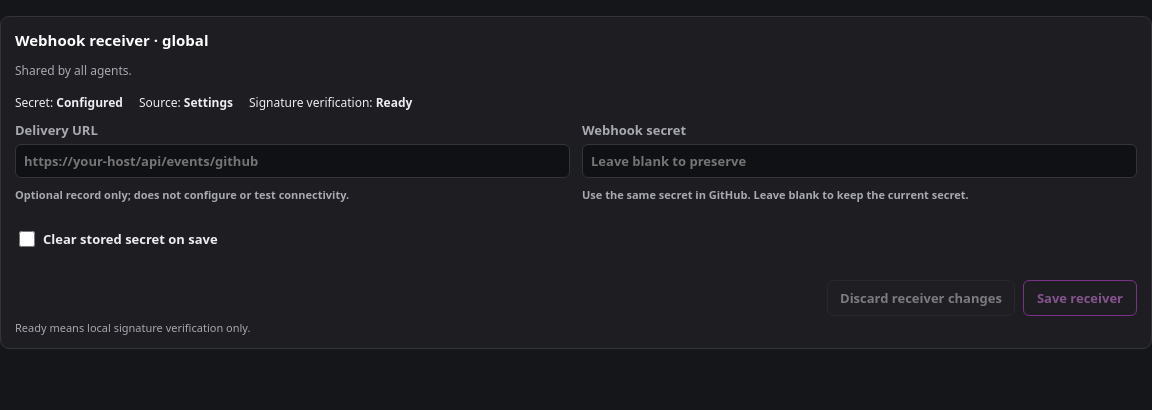
only clears on explicit checkbox plus save, never sends replacement and clear together
Expected: the text "Configured" is shown, top-left (56, 94), bottom-right (123, 111)
In the password field labelled "Webhook secret": (860, 161) top-left (582, 144), bottom-right (1137, 178), type "discard this"
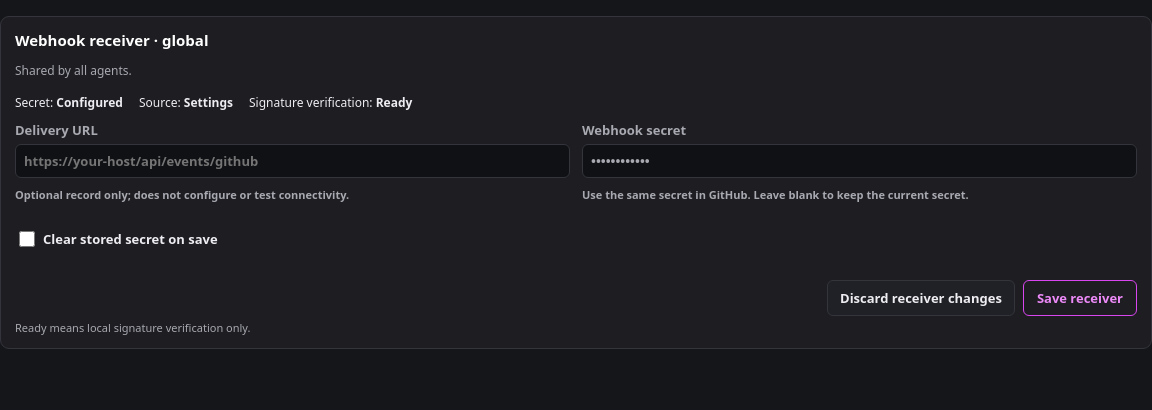
Click the checkbox labelled "Clear stored secret on save": (27, 239) top-left (19, 231), bottom-right (35, 247)
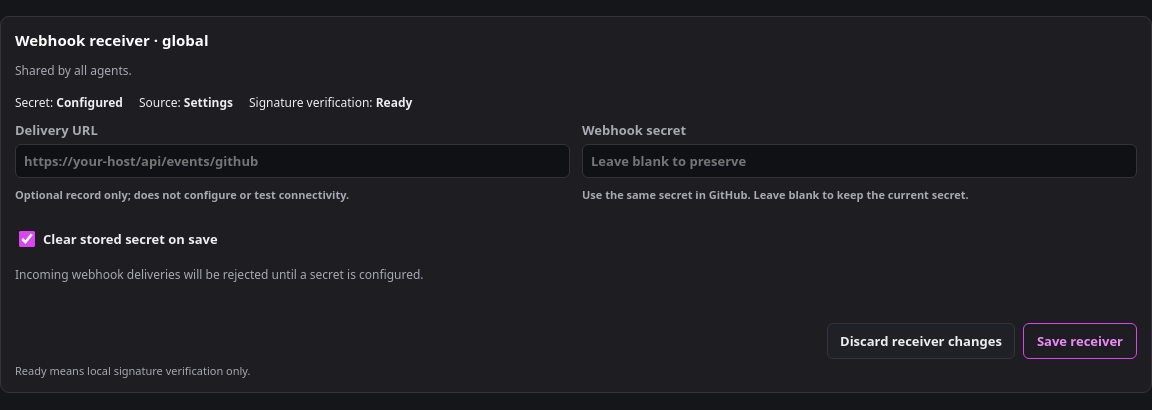
Now the password field labelled "Webhook secret" is disabled, box top-left (582, 144), bottom-right (1137, 178)
Click the button "Save receiver": (1080, 341) top-left (1023, 323), bottom-right (1137, 359)
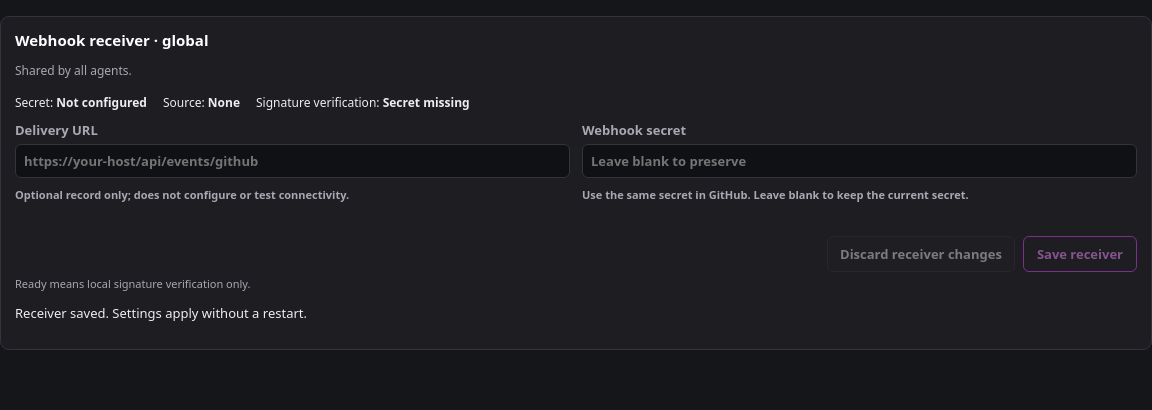
Now the text "Not configured" is shown, box top-left (56, 94), bottom-right (147, 111)
